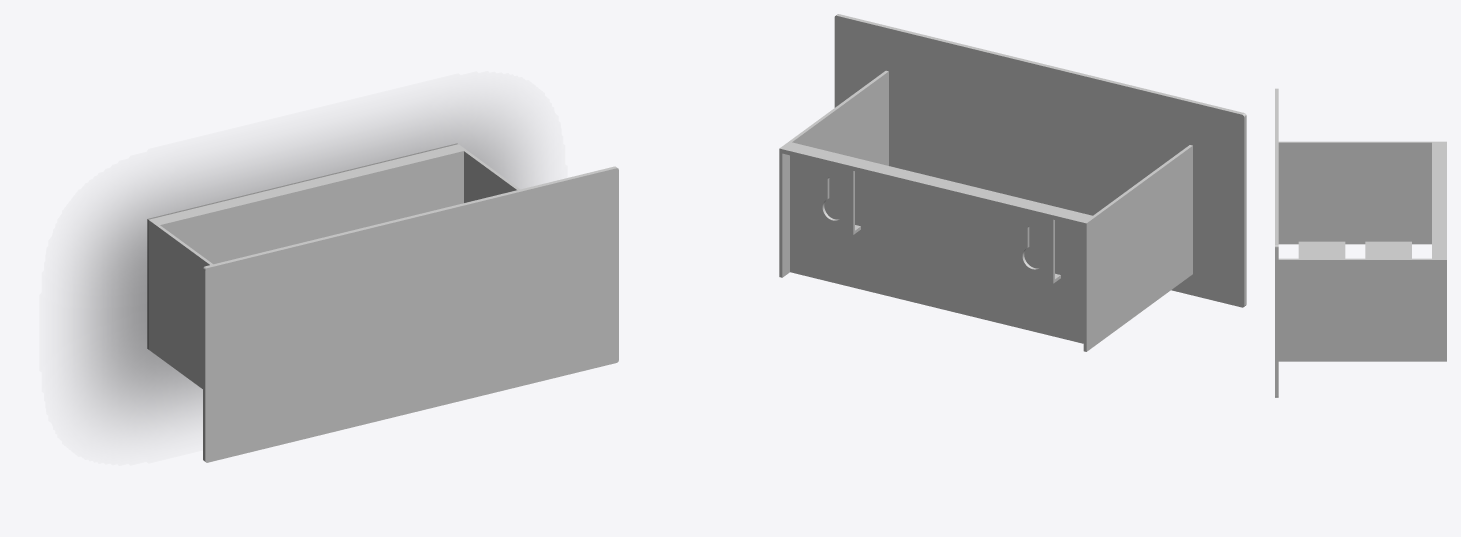
Rendered from skyline-mono.a12e839c70.ar.glb.
3 views of the same model, side by side, from view 1: azimuth 30°, elevation 25°; view 2: azimuth 150°, elevation 25°; view 3: azimuth 270°, elevation 25° (orthographic). The views are drawn at different scales.
Visible parts, largest first — view 1: NAUO1, object 2; view 2: NAUO1; view 3: NAUO1.
Part boxes in pixels (x1,y1,x2,y2): NAUO1: (147, 143, 618, 462); object 2: (79, 117, 527, 419); NAUO1: (779, 14, 1246, 351); NAUO1: (1275, 88, 1446, 397).
Bounding box in the file's own units: 0.28 × 0.17 × 0.092.
Materials: 2 (1 with a texture image).
